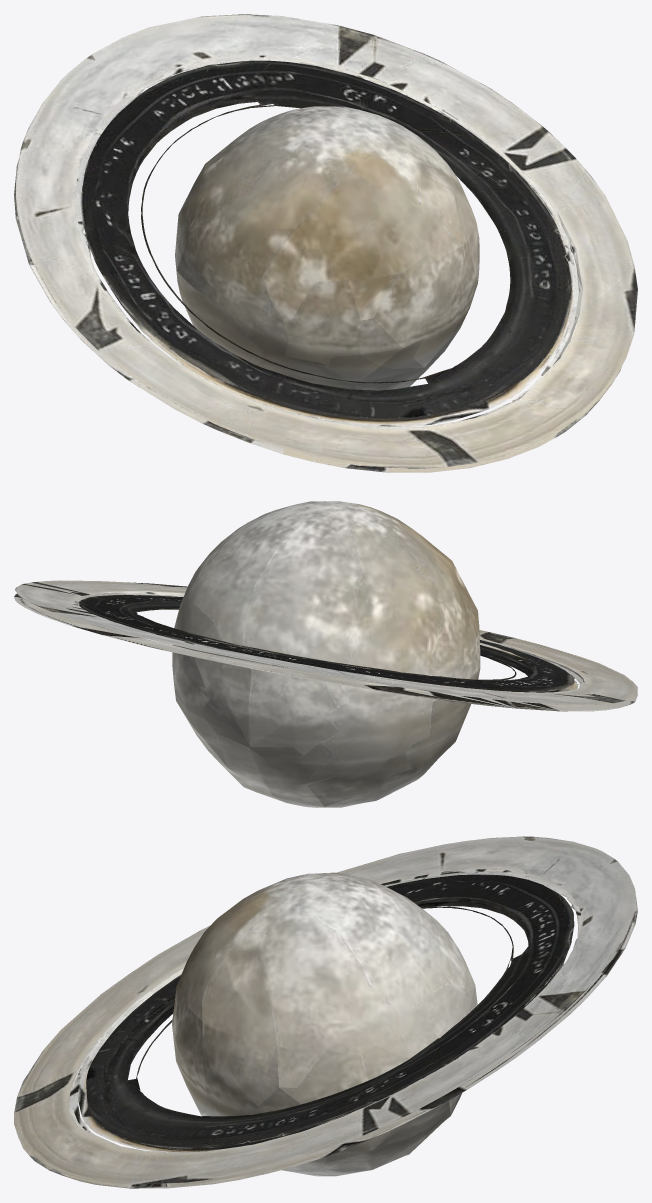
Rendered from solar-venus.glb.
3 renders of one model, top to bottom at view 1: azimuth 30°, elevation 25°; view 2: azimuth 150°, elevation 25°; view 3: azimuth 270°, elevation 25°, orthographic.
Size of the model in its own units: 1.9 by 0.9375 by 1.89.
Materials: 1 (1 with a texture image).
